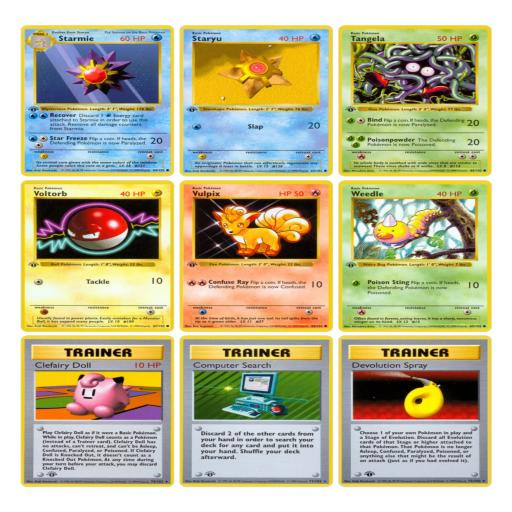card: (338, 24, 493, 177), (21, 180, 175, 333), (20, 334, 174, 487), (339, 334, 492, 487), (180, 24, 333, 177), (180, 180, 333, 333), (338, 180, 492, 332), (22, 25, 174, 178), (180, 336, 334, 487)
